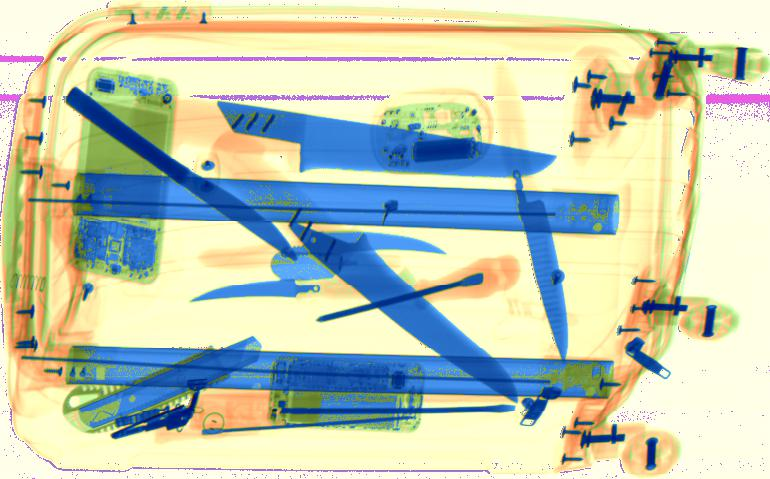Knife: (287, 221, 519, 404), (64, 86, 299, 262), (200, 98, 558, 178), (506, 168, 569, 360), (280, 226, 449, 258), (187, 278, 324, 306), (271, 246, 344, 279)
